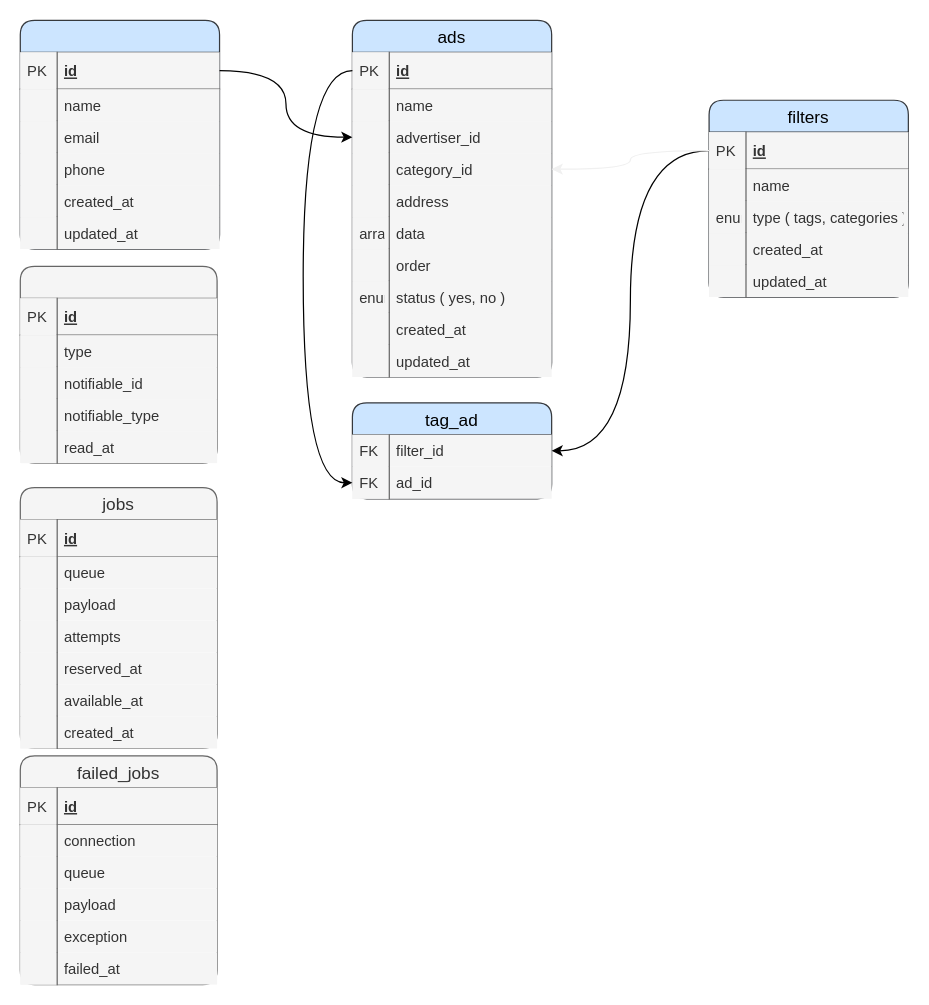
The diagram is 929 pixels wide and 1005 high, and some of its shapes have lost their labels. Here are the shapes that lost their labels. From the top down, the box of each, then its label:
(19, 19, 220, 249): users
(19, 265, 217, 463): notifications
